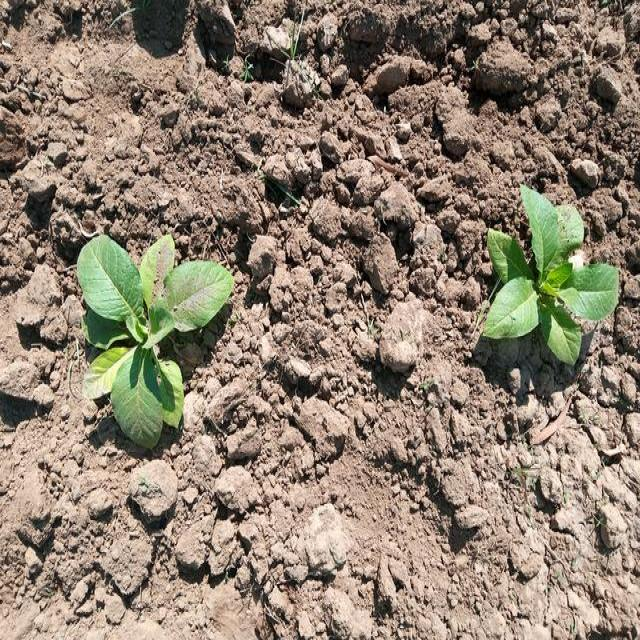crop: (80, 234, 238, 444), (475, 178, 620, 374)
